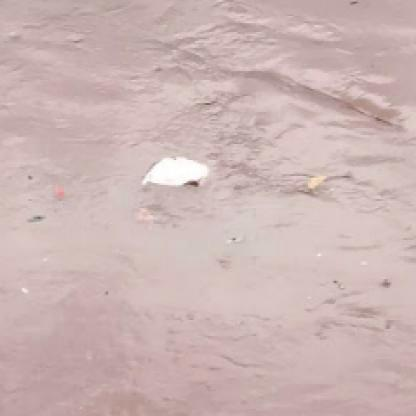Trash: (142, 155, 212, 190)
